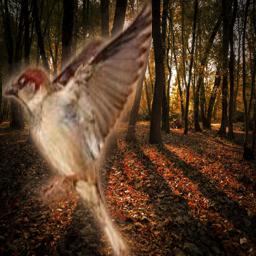Sparrow: (2, 0, 152, 256)
